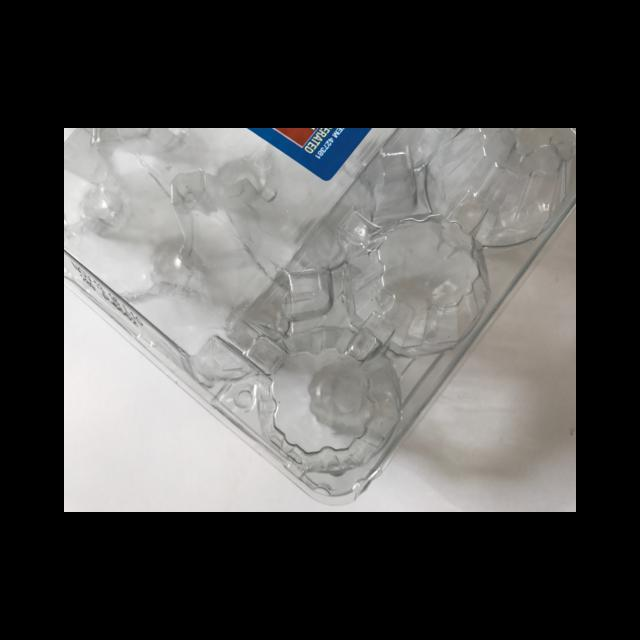plastic: (64, 128, 575, 503)
